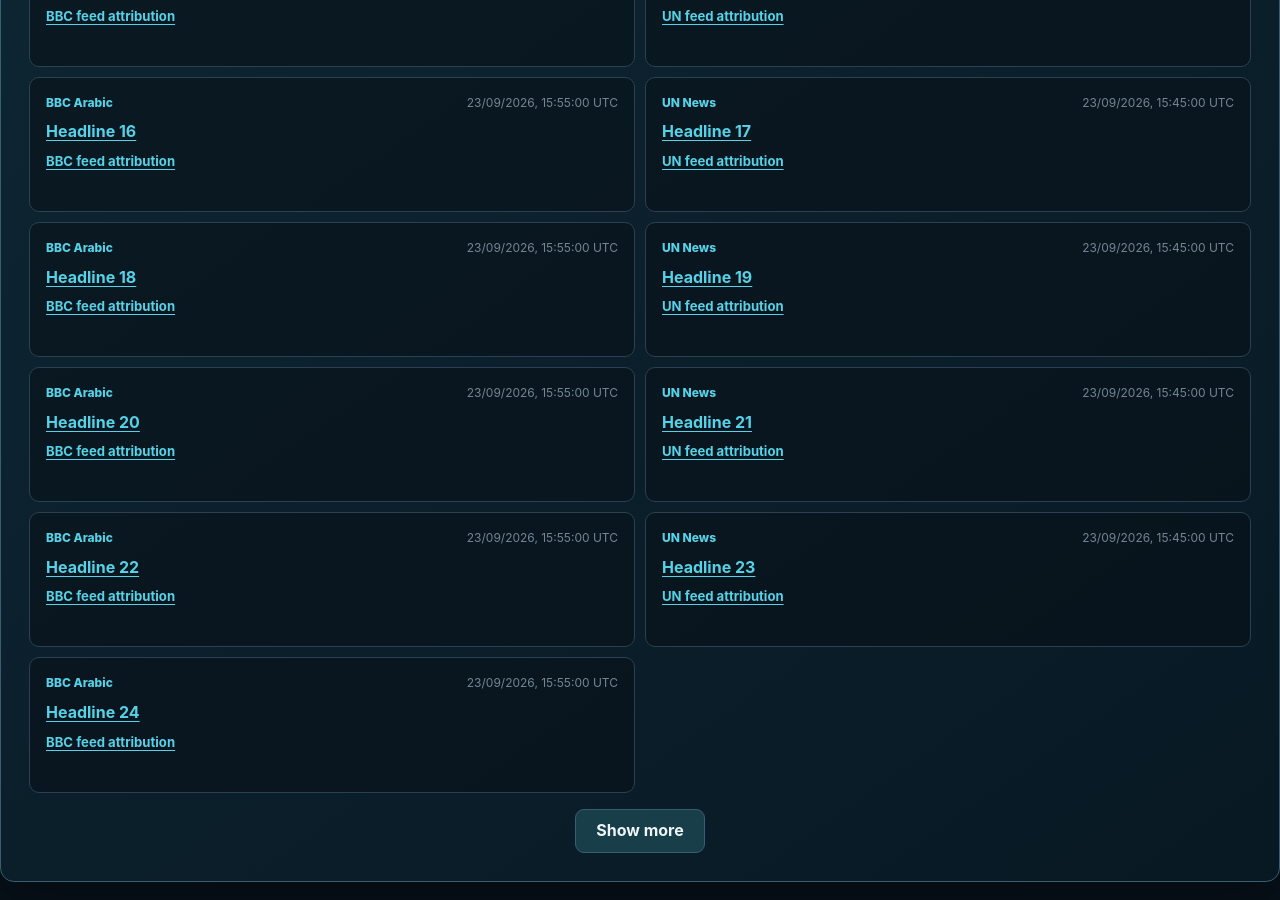
Test: NewsWire › shows 25 headlines at a time and resets on source and language changes
(page scrolled)
Click the button "Show more" at [640, 831], box [575,809,705,853]
(page scrolled)
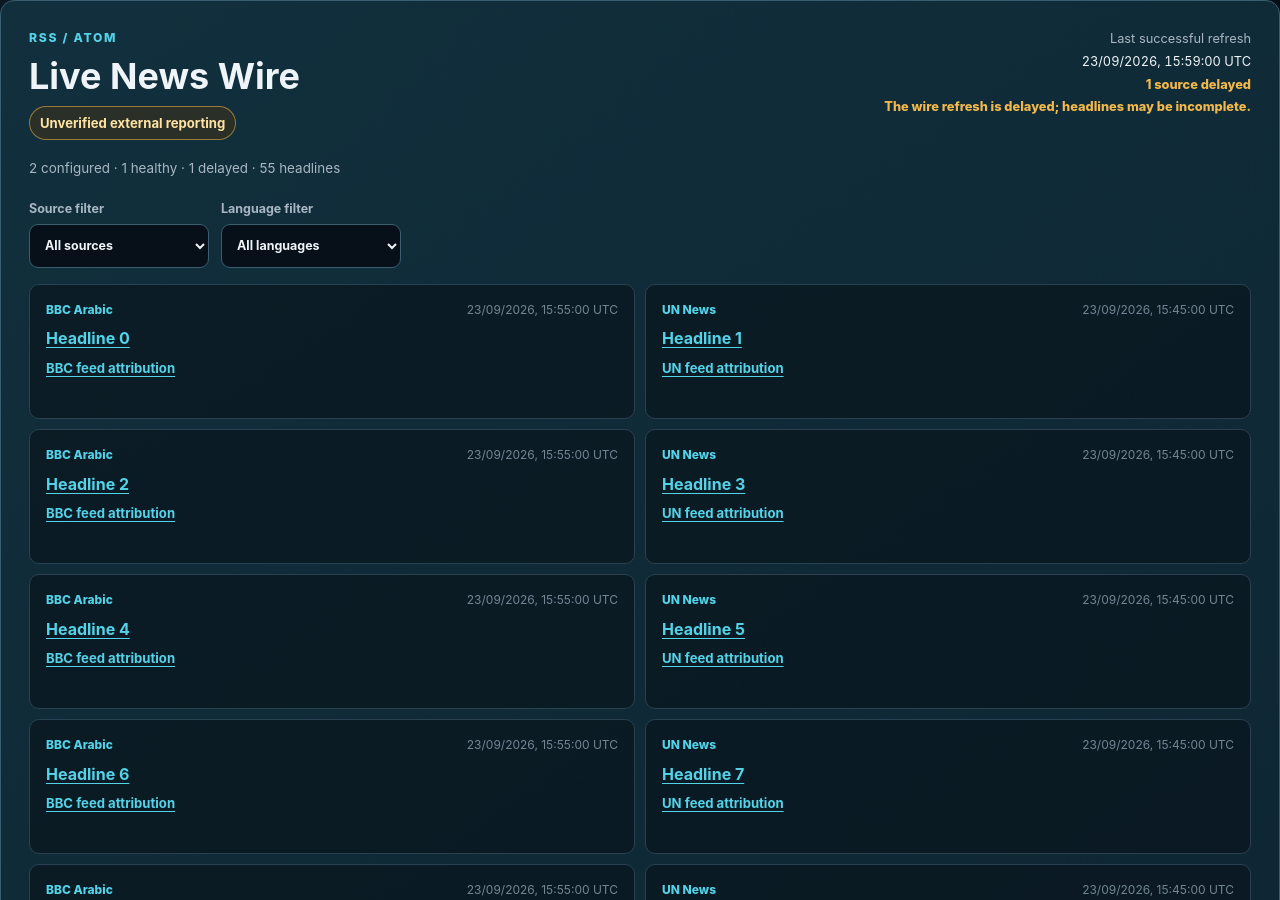
Select "BBC Arabic" in the dropdown labelled "Source filter" at [119, 246], box [29,224,209,268]
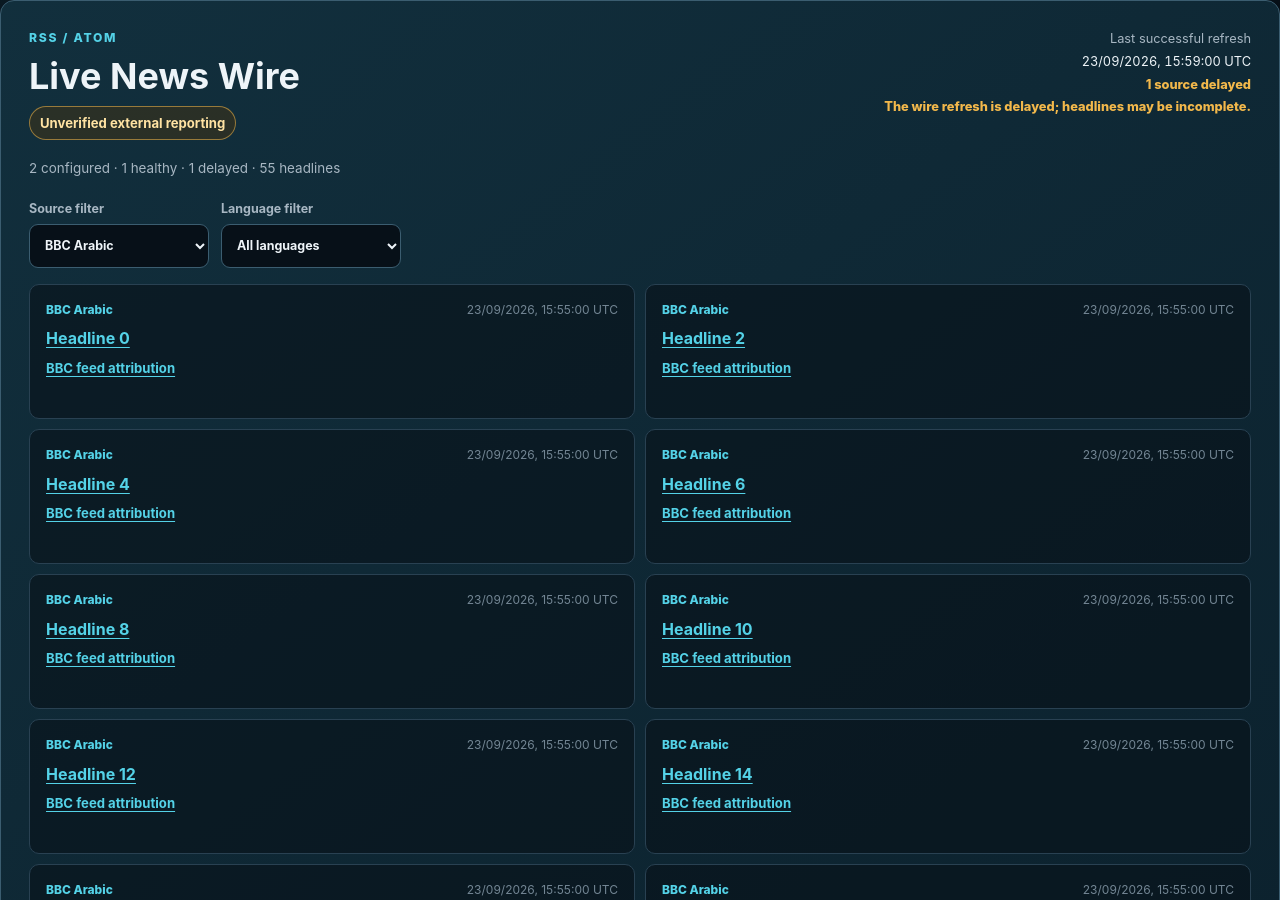
Select "All sources" in the dropdown labelled "Source filter" at [119, 246], box [29,224,209,268]
(page scrolled)
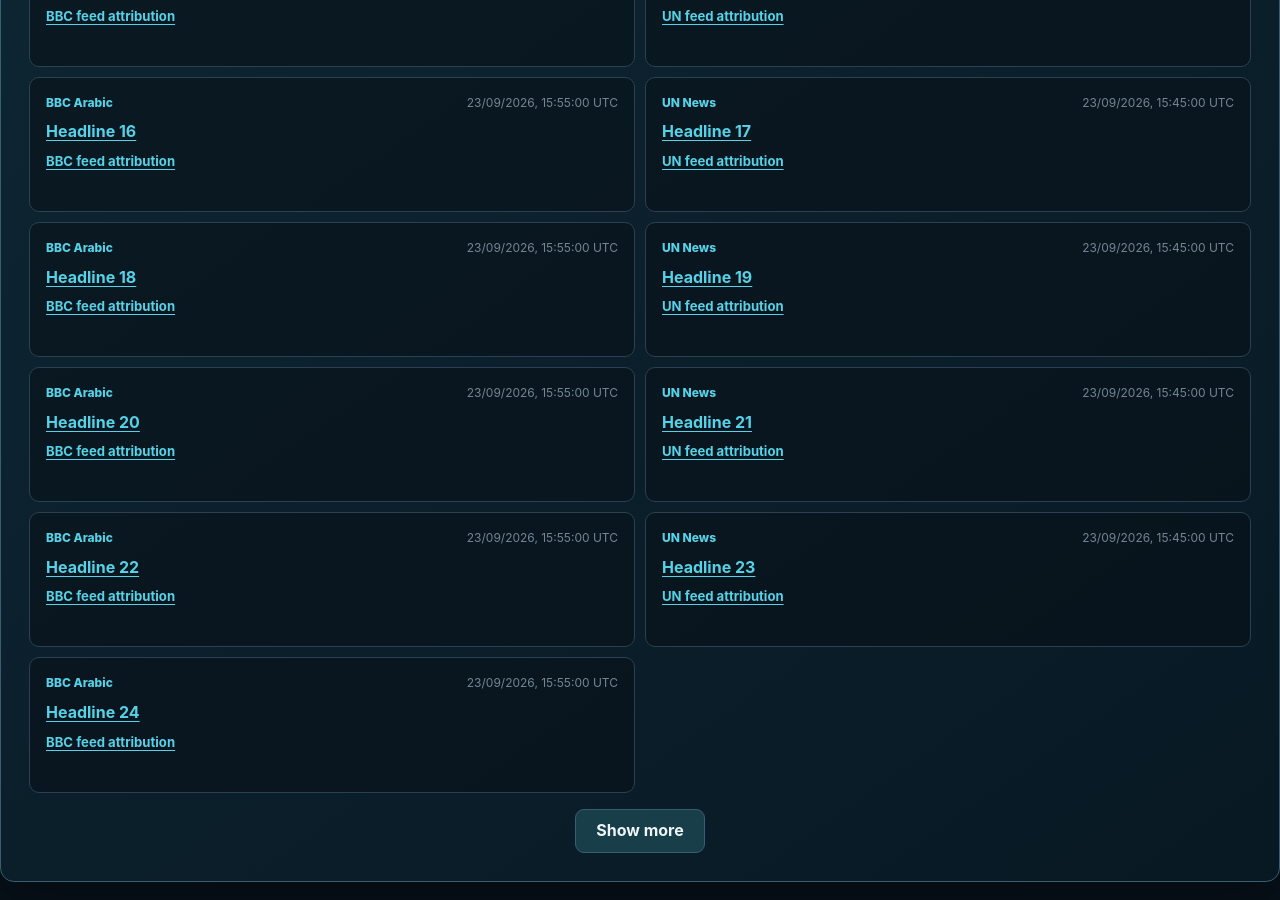
Click the button "Show more" at [640, 831], box [575,809,705,853]
(page scrolled)
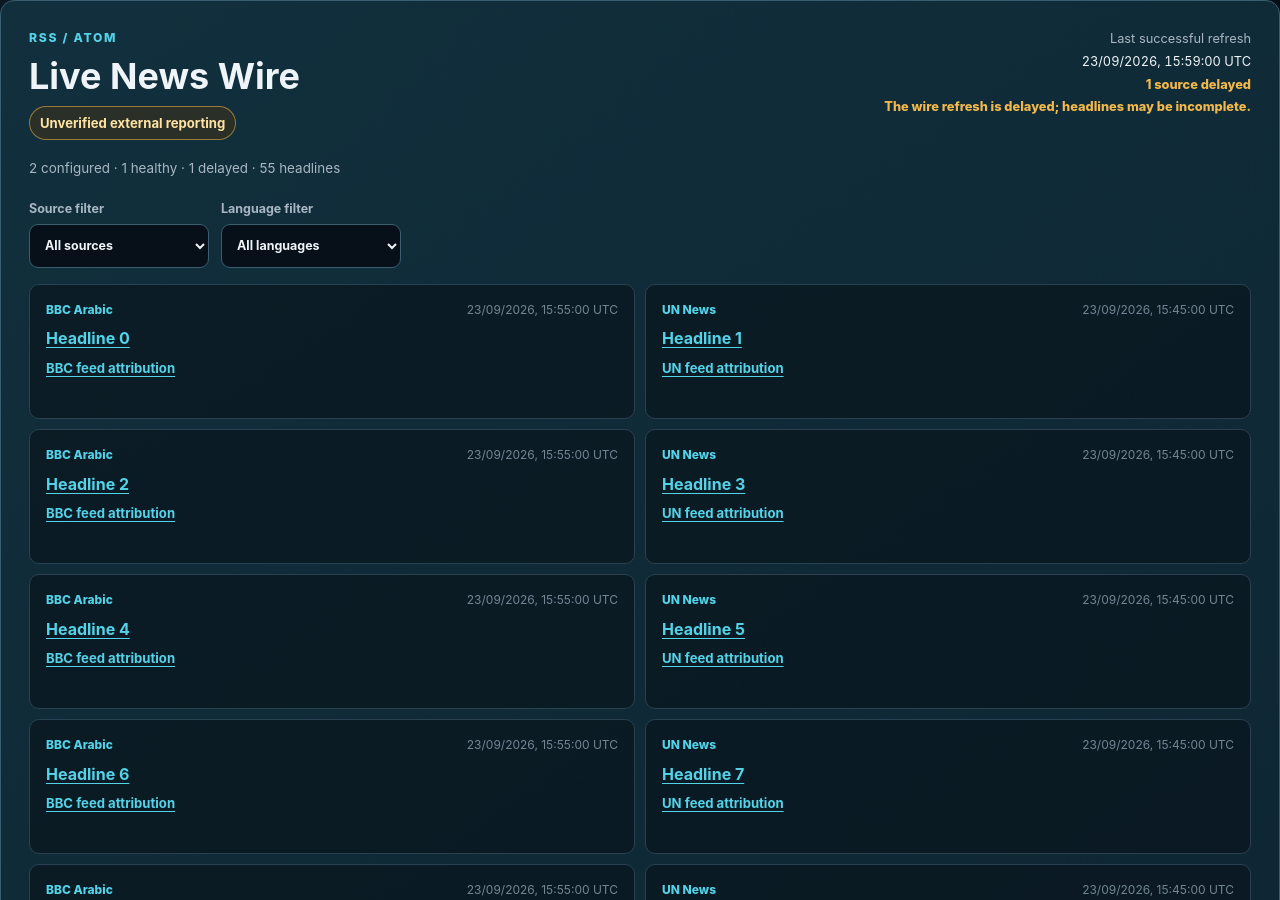
Select "English" in the dropdown labelled "Language filter" at [311, 246], box [221,224,401,268]
(page scrolled)
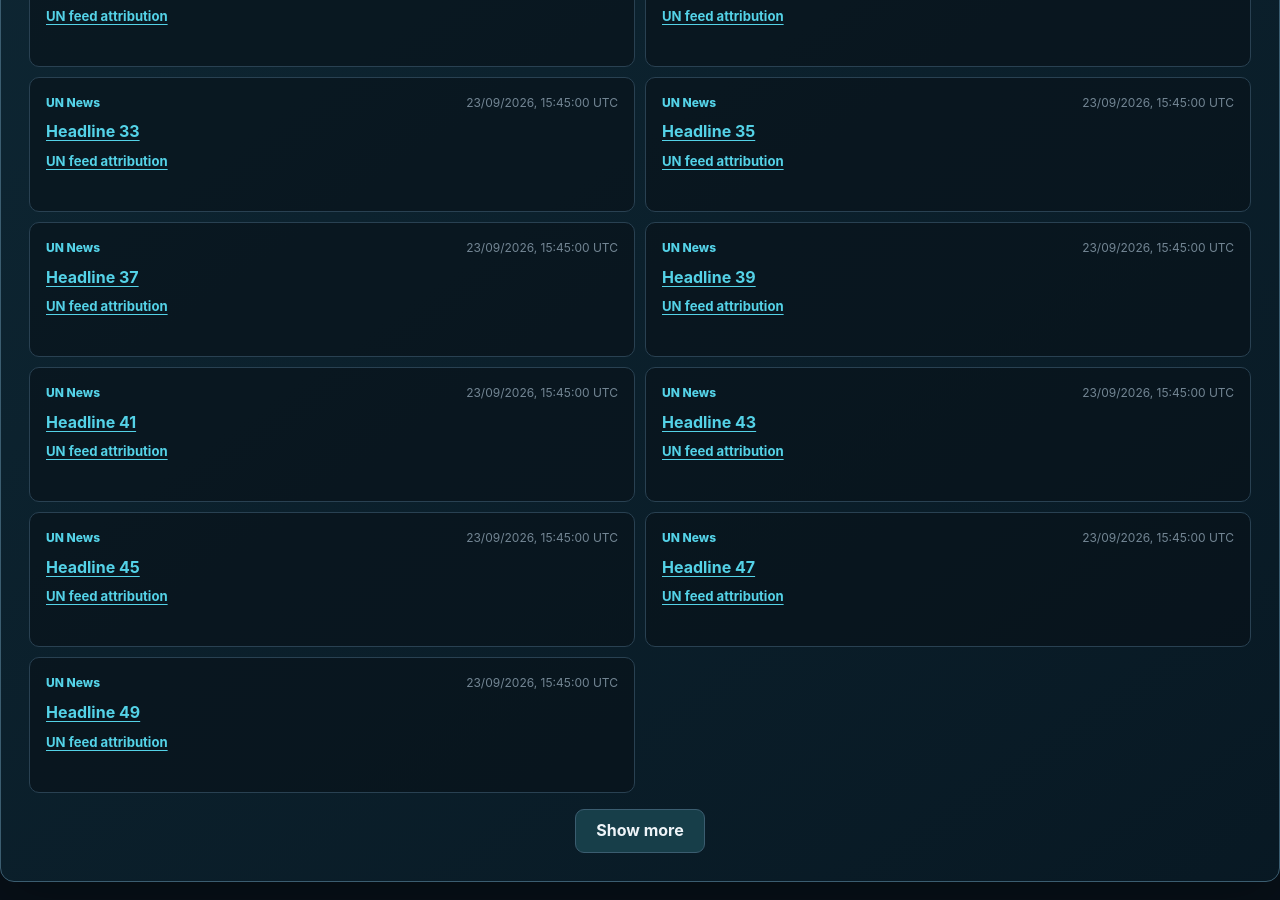
Click the button "Show more" at [640, 831], box [575,809,705,853]
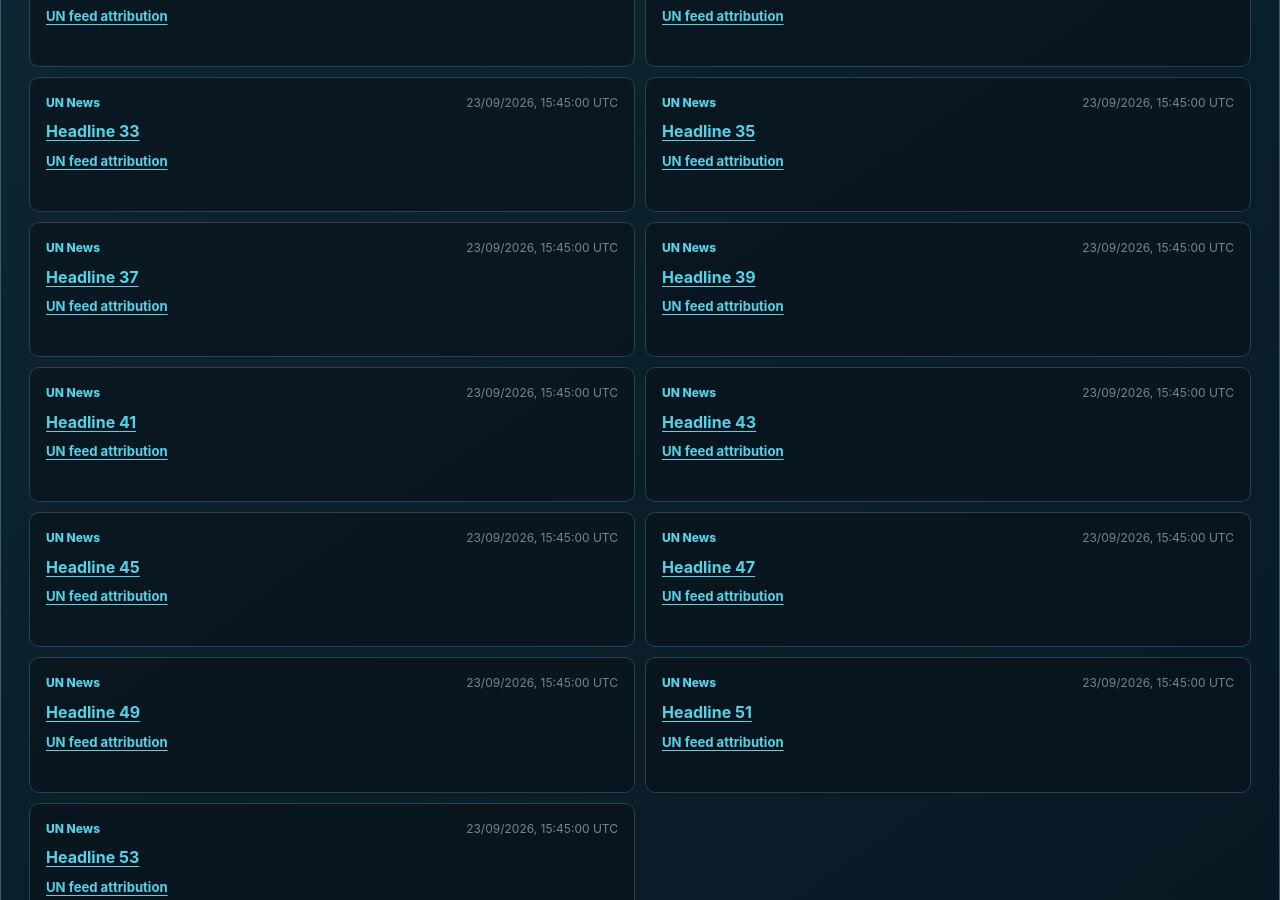
Check: the button "Show more" is gone
